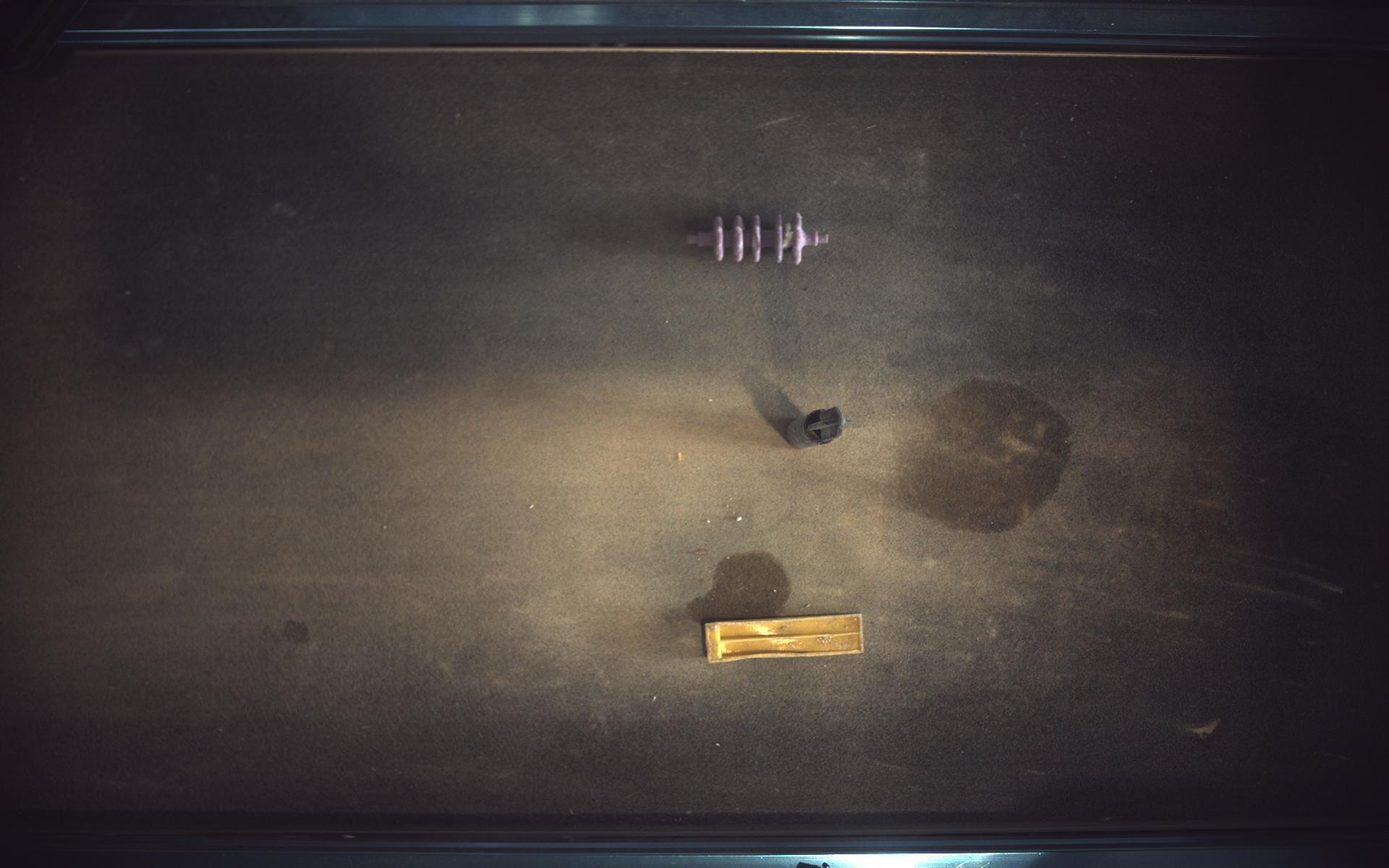general_w: (688, 213, 830, 264)
pipes: (786, 407, 854, 449)
plastic: (705, 614, 865, 665)
